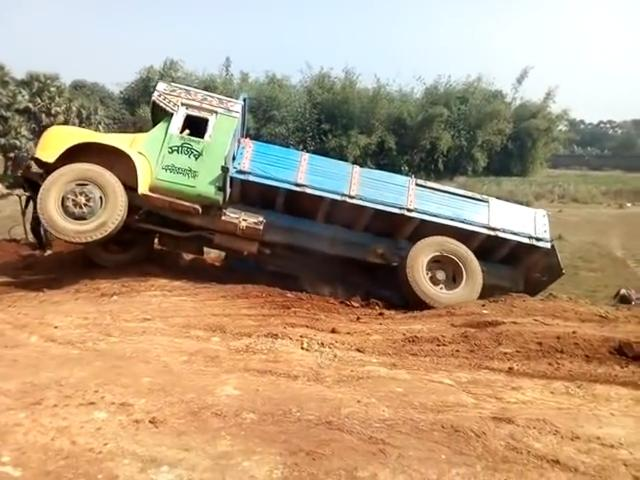truck: (14, 66, 581, 339)
